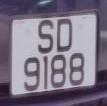1: (41, 54, 52, 91)
8: (67, 51, 87, 89), (50, 53, 69, 90)
9: (22, 56, 43, 93)
D: (54, 15, 75, 55)
S: (36, 16, 56, 55)
